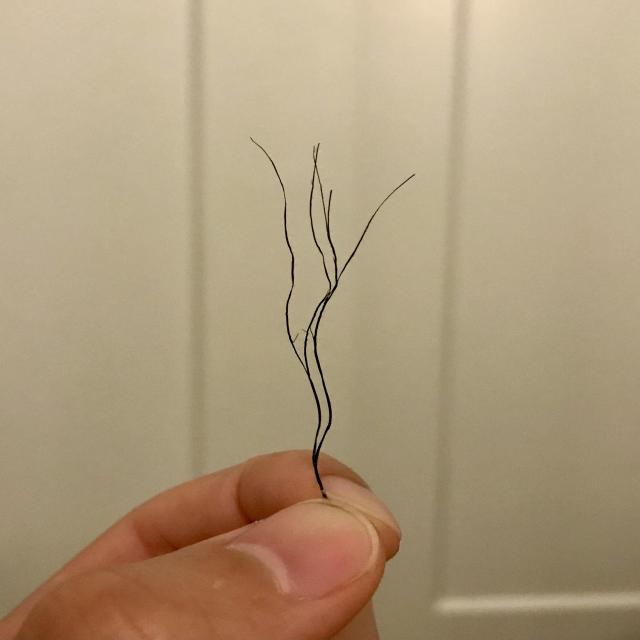hair: (248, 128, 419, 442)
